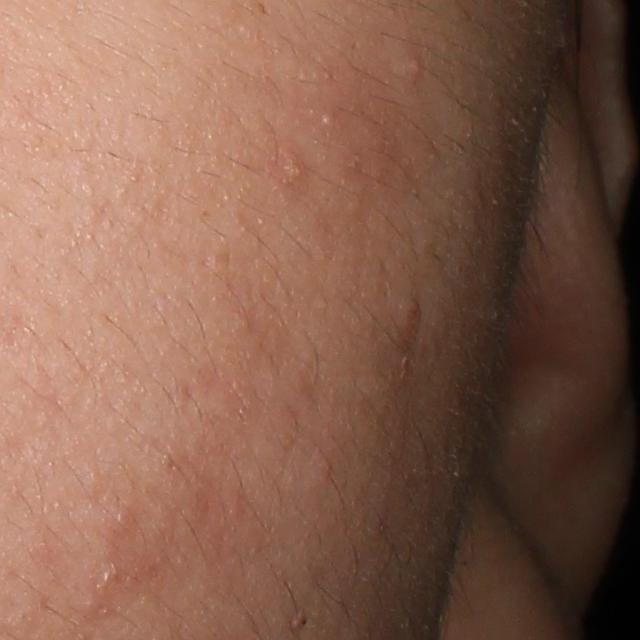comedo: (112, 501, 137, 528)
